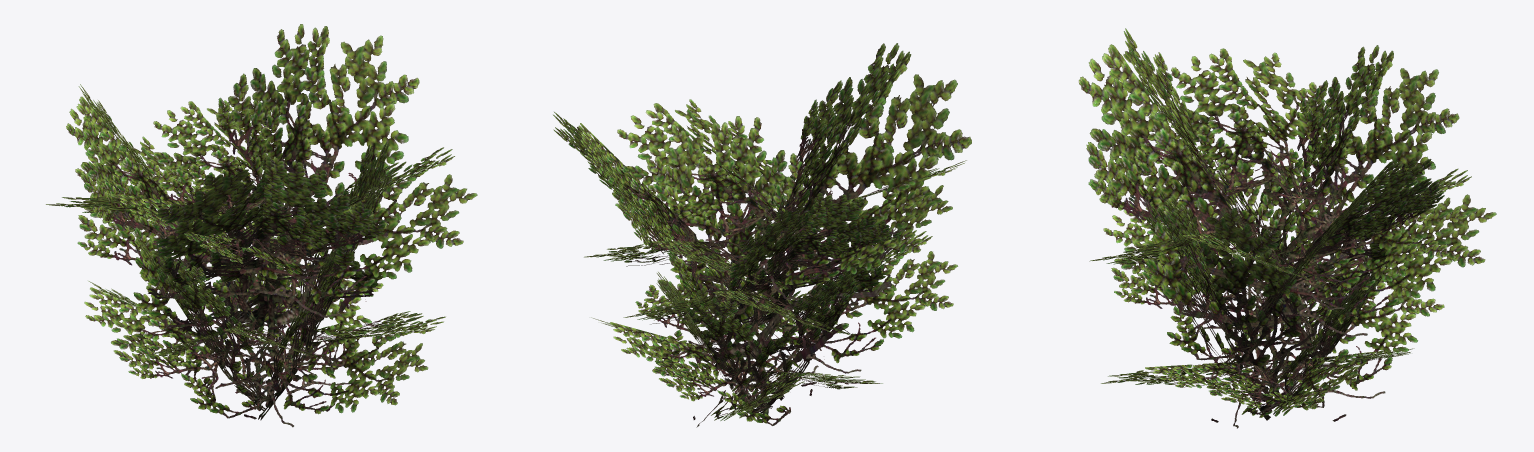
The model's file is temp_bush_04.glb.
The picture shows the model from 3 angles, left to right: view 1: azimuth 30°, elevation 25°; view 2: azimuth 150°, elevation 25°; view 3: azimuth 270°, elevation 25°; orthographic projection. The views are drawn at different scales.
Visible parts, largest first — view 1: temp_bush_04; view 2: temp_bush_04; view 3: temp_bush_04.
Part boxes in pixels (left/top/right/bottom): temp_bush_04: left=46, top=24, right=477, bottom=427; temp_bush_04: left=553, top=43, right=971, bottom=427; temp_bush_04: left=1078, top=28, right=1496, bottom=428.
Size of the model in its own units: 12.24 by 9.37 by 12.
1 material, 1 textured.
